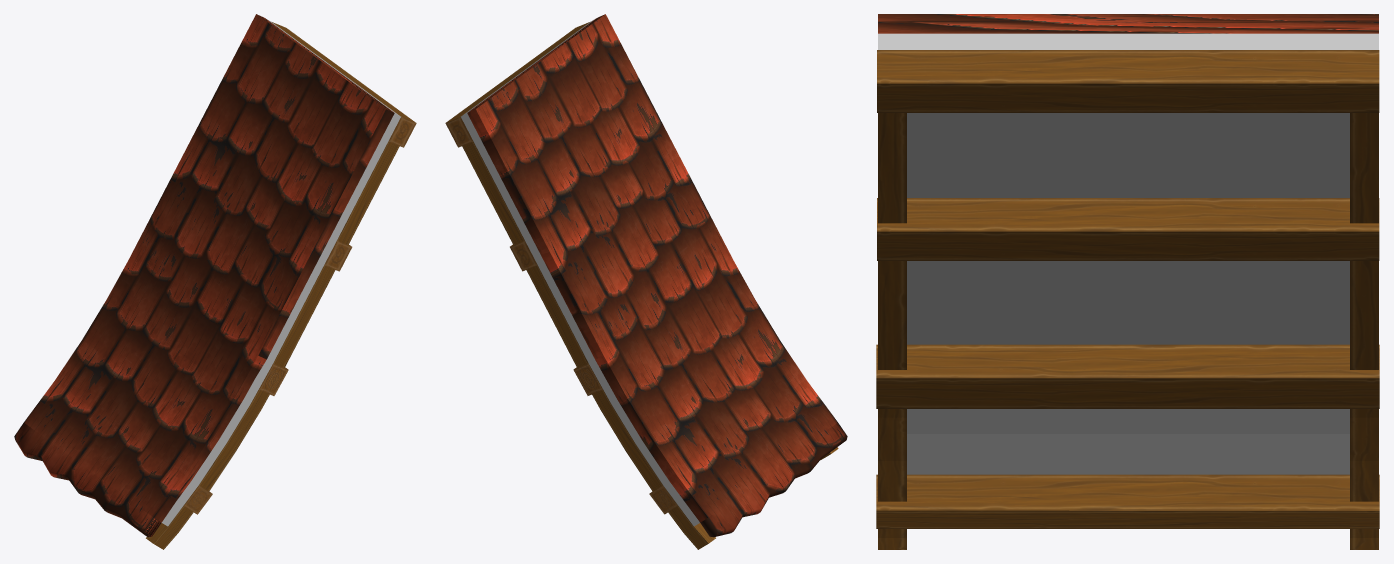
File: SM_House_Roof_01_Tiling_Half_Base.fbx
3 renders of one model, left to right at view 1: azimuth 30°, elevation 25°; view 2: azimuth 150°, elevation 25°; view 3: azimuth 270°, elevation 25°, orthographic. The views are drawn at different scales.
Visible parts, largest first — view 1: SM_House_Roof_01_Tiling_Half_Base; view 2: SM_House_Roof_01_Tiling_Half_Base; view 3: SM_House_Roof_01_Tiling_Half_Base.
Boxes of the visible parts, bbox=[...] form: SM_House_Roof_01_Tiling_Half_Base: bbox=[14, 14, 416, 549]; SM_House_Roof_01_Tiling_Half_Base: bbox=[445, 14, 847, 549]; SM_House_Roof_01_Tiling_Half_Base: bbox=[876, 14, 1379, 549].
Size of the model in its own units: 3.07 by 4.1 by 2.51.
